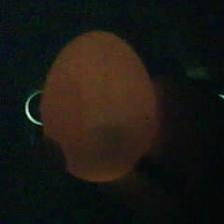fertile: (39, 30, 163, 182)
